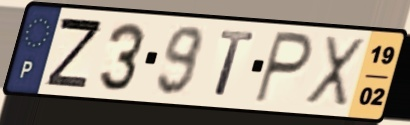3: (97, 20, 147, 93)
9: (154, 24, 206, 99)
P: (251, 28, 316, 107)
T: (212, 27, 259, 100)
X: (301, 33, 368, 112)
Z: (43, 15, 105, 91)
